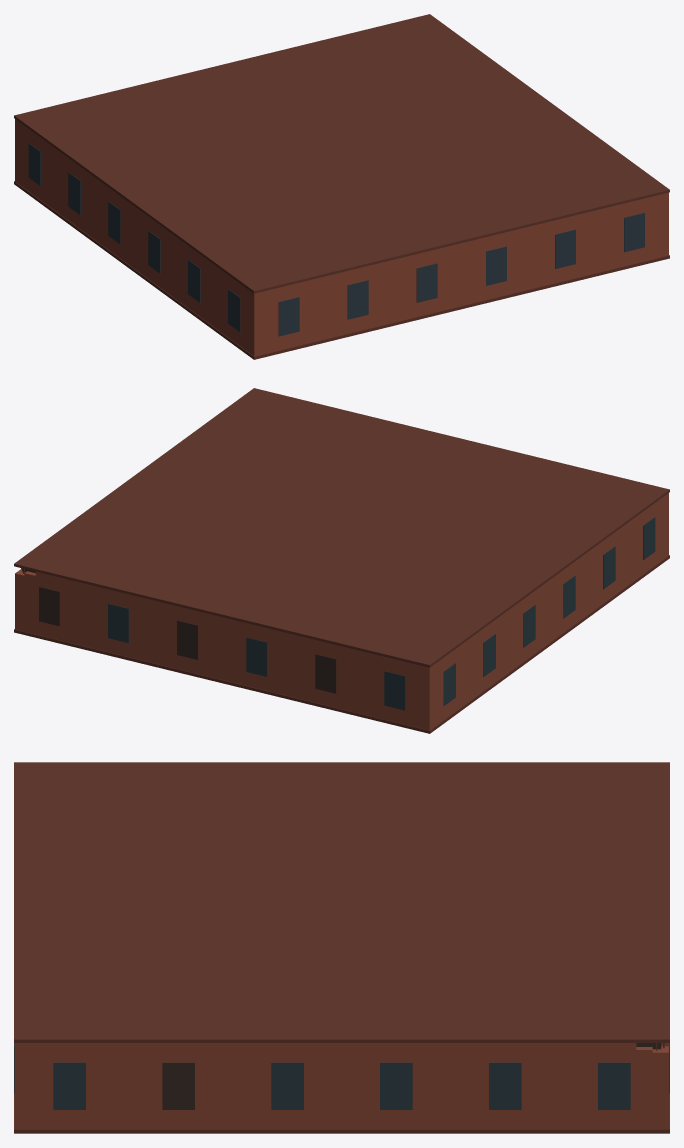
Rendered from tw_brick_24_floor_c_lod1.glb.
3 views of the same model, one above another, from view 1: azimuth 30°, elevation 25°; view 2: azimuth 150°, elevation 25°; view 3: azimuth 270°, elevation 25° (orthographic). The views are drawn at different scales.
Visible parts, largest first — view 1: tw_brick_24_floor_c_lod1; view 2: tw_brick_24_floor_c_lod1; view 3: tw_brick_24_floor_c_lod1.
Boxes of the visible parts, left/top/right/bottom form: tw_brick_24_floor_c_lod1: left=14, top=14, right=669, bottom=359; tw_brick_24_floor_c_lod1: left=14, top=388, right=669, bottom=733; tw_brick_24_floor_c_lod1: left=14, top=762, right=669, bottom=1133.
Bounding box in the file's own units: 24.08 × 3.8 × 24.08.
Materials: 1 (1 with a texture image).
